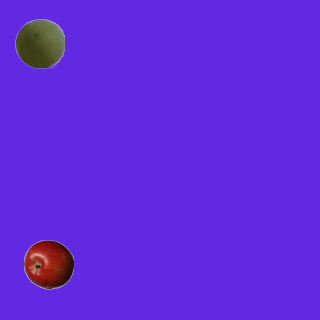Apple Braeburn: (23, 239, 73, 289)
Grape White 4: (14, 18, 64, 68)
